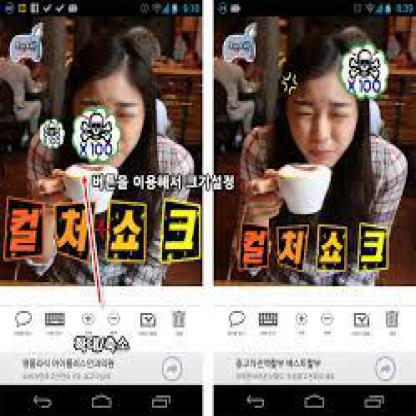skull: (346, 47, 382, 83), (80, 112, 116, 144)
